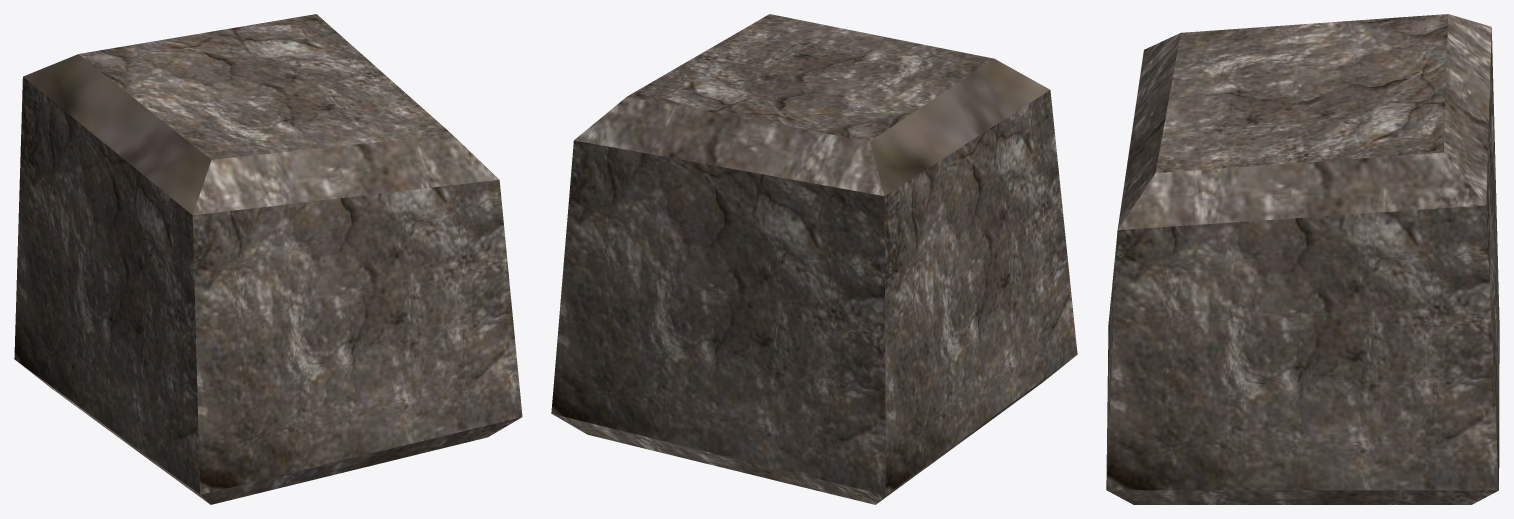
File: rock.fbx
The picture shows the model from 3 angles, left to right: view 1: azimuth 30°, elevation 25°; view 2: azimuth 150°, elevation 25°; view 3: azimuth 270°, elevation 25°; orthographic projection. The views are drawn at different scales.
Visible parts, largest first — view 1: rock; view 2: rock; view 3: rock.
Boxes of the visible parts, x1,y1,x2,y2 form: rock: [14, 14, 522, 504]; rock: [551, 14, 1077, 504]; rock: [1106, 14, 1499, 504].
Bounding box in the file's own units: 1.99 × 1.99 × 1.99.
